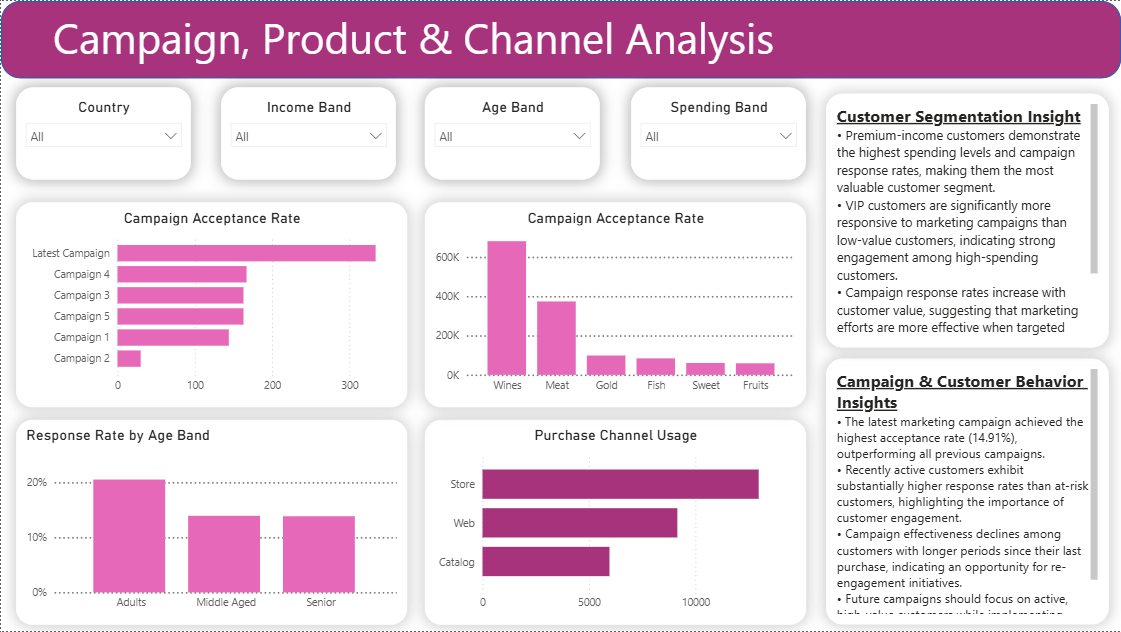

What the dashboard file says about the page in this screenshot:
{"tool":"powerbi","page":{"name":"Campaign, Product & Channel Analysis","canvas":[1280,720],"ordinal":1},"visuals":[{"type":"shape","box":[0,0,1280,88.6],"z":0},{"type":"textbox","box":[54.3,4.3,1225.7,78.6],"z":1000},{"type":"slicer","title":"Country","fields":{"Values":["marketing_data (2).Country"]},"box":[17.1,98.6,200,105.7],"z":1001},{"type":"slicer","title":"Income Band","fields":{"Values":["marketing_data (2).Income Band"]},"box":[251.4,98.6,200,105.7],"z":1002},{"type":"slicer","title":"Spending Band","fields":{"Values":["marketing_data (2).Spending Band"]},"box":[720,98.6,200,105.7],"z":1003},{"type":"slicer","title":"Age Band","fields":{"Values":["marketing_data (2).Age Band "]},"box":[484.3,98.6,200,105.7],"z":1004},{"type":"barChart","title":"Campaign Acceptance Rate","fields":{"Y":["Sum(marketing_data (3).Value)"],"Category":["marketing_data (3).Attribute"]},"box":[17.1,230,447.1,234.3],"z":1010},{"type":"columnChart","title":"Response Rate by Age Band","fields":{"Category":["marketing_data (2).Age Band "],"Y":["marketing_data (2).Campaign Response Rate"]},"box":[17.1,478.6,447.1,234.3],"z":1012},{"type":"clusteredBarChart","title":"Purchase Channel Usage","fields":{"Category":["marketing_data (5).Attribute"],"Y":["Sum(marketing_data (5).Value)"]},"box":[484.3,478.6,435.7,234.3],"z":1013},{"type":"columnChart","title":"Campaign Acceptance Rate","fields":{"Category":["marketing_data (4).Attribute"],"Y":["Sum(marketing_data (4).Value)"]},"box":[484.3,230,435.7,234.3],"z":1014},{"type":"textbox","box":[942.9,408.6,322.9,304.3],"z":1016},{"type":"textbox","box":[942.9,105.7,322.9,290],"z":1017}]}

Visuals, with their boxes in screenshot pixels (x1, y1, x2, y2), scaled from the page's 1280x720 canvas onto the 1121x632 screenshot:
shape: [left=0, top=0, right=1120, bottom=78]
textbox: [left=48, top=4, right=1120, bottom=73]
"Country" slicer: [left=15, top=87, right=190, bottom=179]
"Income Band" slicer: [left=220, top=87, right=395, bottom=179]
"Spending Band" slicer: [left=631, top=87, right=806, bottom=179]
"Age Band" slicer: [left=424, top=87, right=599, bottom=179]
"Campaign Acceptance Rate" barChart: [left=15, top=202, right=407, bottom=408]
"Response Rate by Age Band" columnChart: [left=15, top=420, right=407, bottom=626]
"Purchase Channel Usage" clusteredBarChart: [left=424, top=420, right=806, bottom=626]
"Campaign Acceptance Rate" columnChart: [left=424, top=202, right=806, bottom=408]
textbox: [left=826, top=359, right=1109, bottom=626]
textbox: [left=826, top=93, right=1109, bottom=347]
